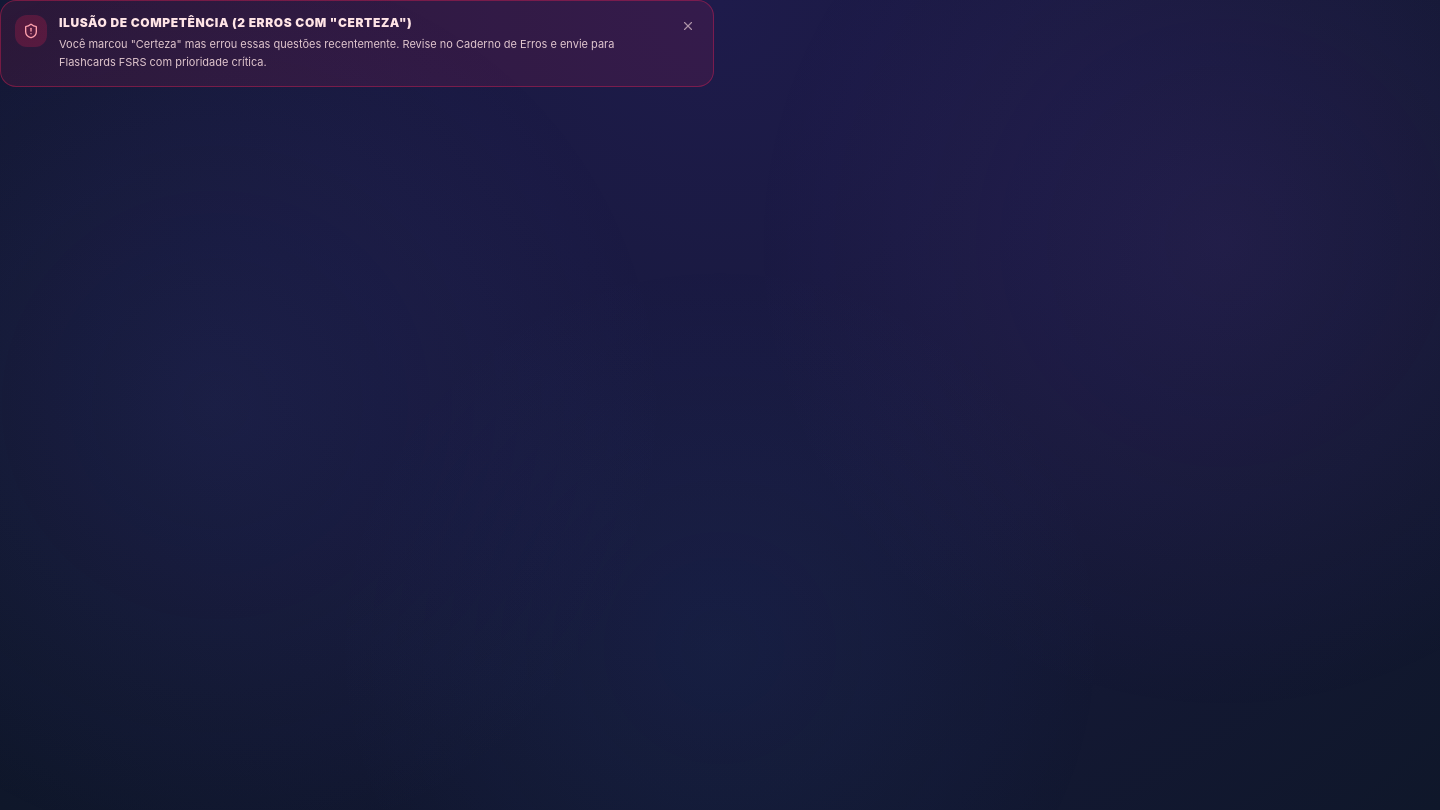
Test: Coach AI & Control Center — 22-Bug Audit Regression Suite › Bug #15: AdaptiveTacticalAlerts deduplicates simulados, supports wasCorrect:false, ignores blanks, and allows dismissing alerts
Click the button named "Dispensar alerta".
click(688, 26)  # box [677,15,699,37]
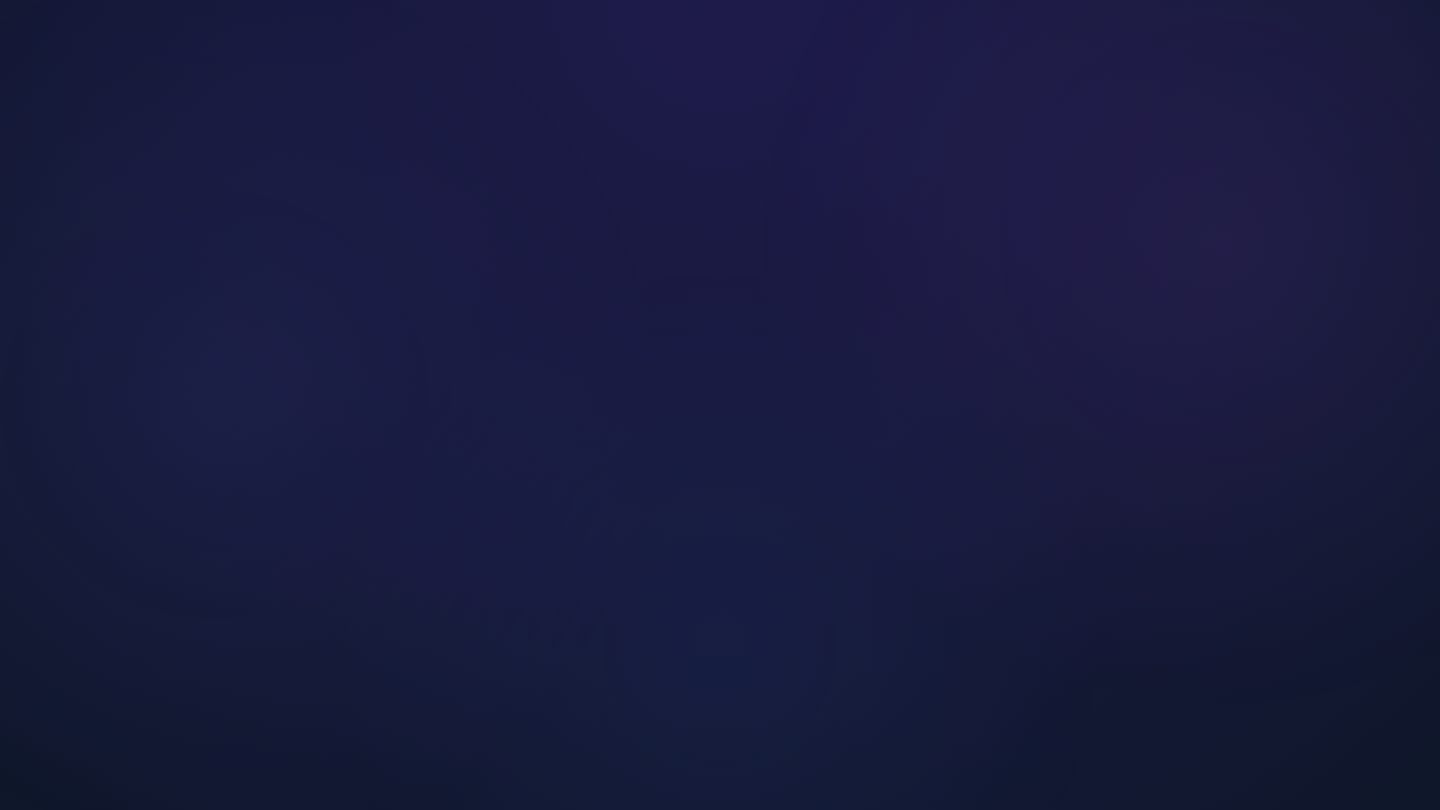
Now the text "Ilusão de Competência" is gone
